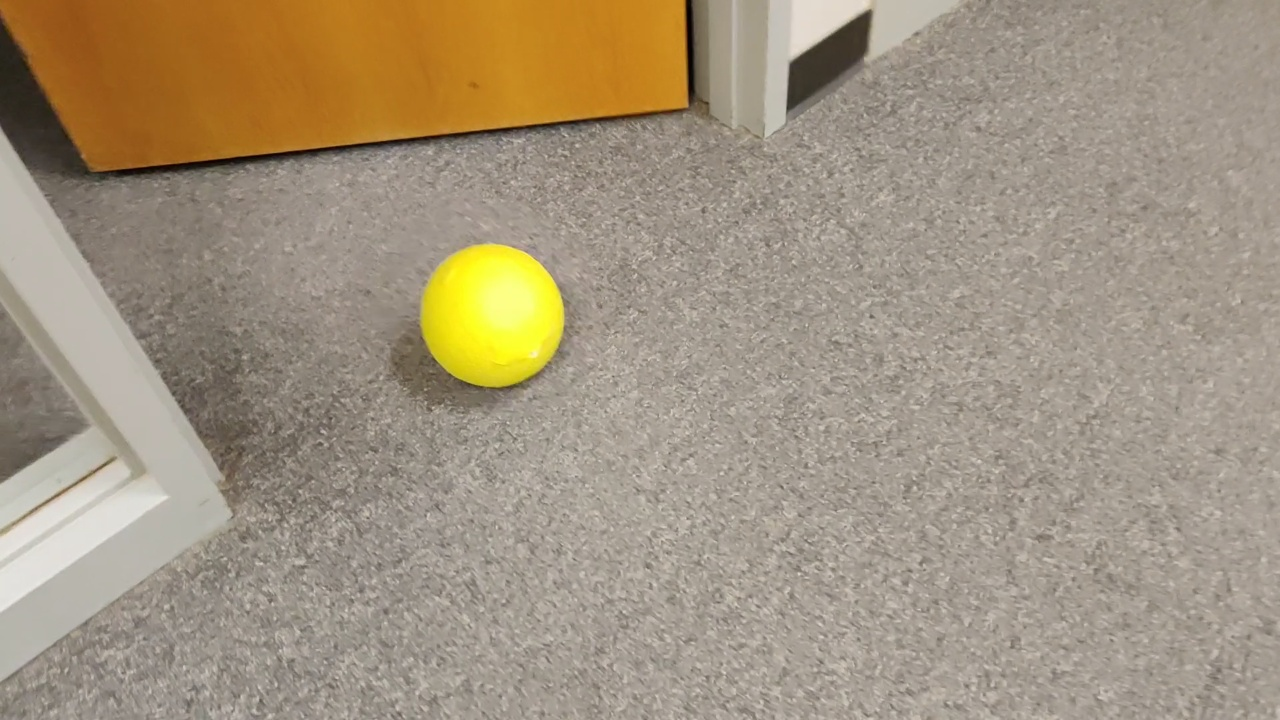Ball: (416, 236, 572, 396)
